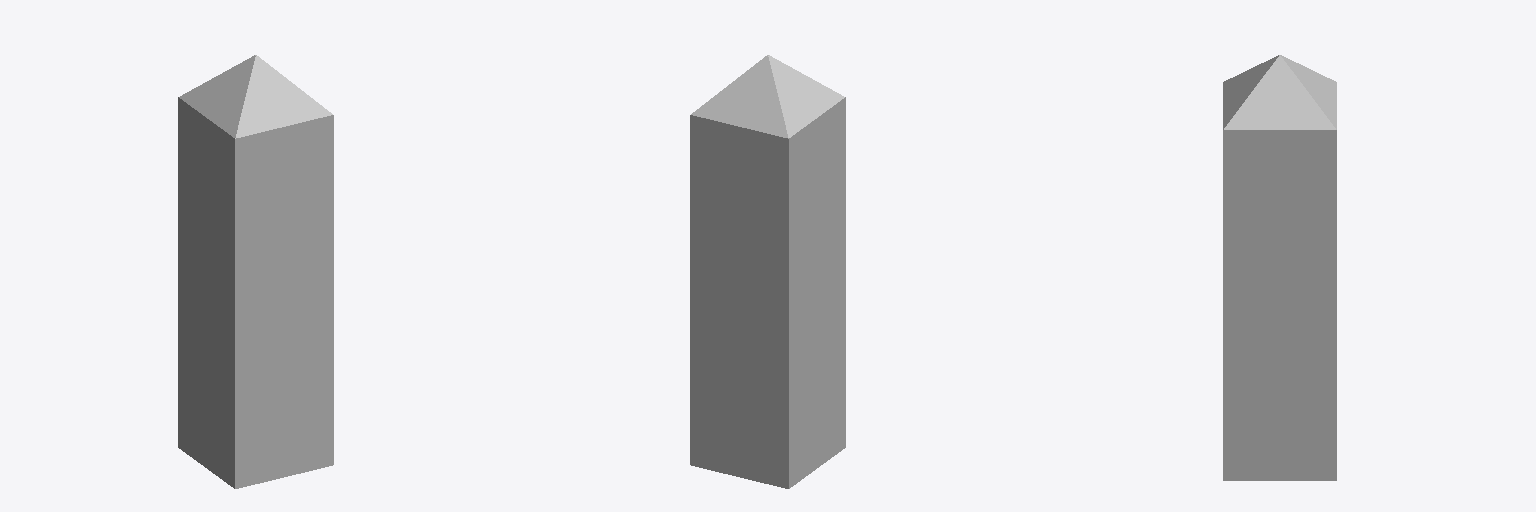
The model's file is arr.obj.
3 renders of one model, left to right at view 1: azimuth 30°, elevation 25°; view 2: azimuth 150°, elevation 25°; view 3: azimuth 270°, elevation 25°, orthographic.
Visible parts, largest first — view 1: Cube; view 2: Cube; view 3: Cube.
Part boxes in pixels (x1,y1,x2,y2): Cube: (178,55,333,488); Cube: (690,55,845,488); Cube: (1223,55,1336,480).
Size of the model in its own units: 2 by 7.8 by 2.